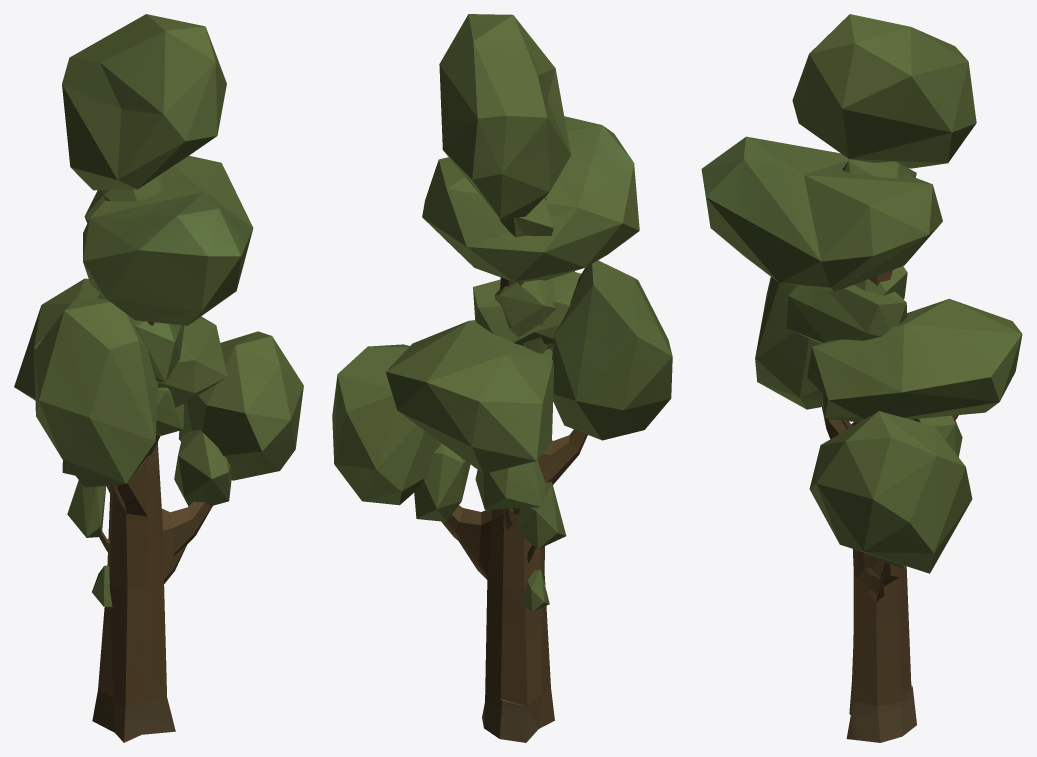
The model's file is tree4V1.fbx.
3 views of the same model, side by side, from view 1: azimuth 30°, elevation 25°; view 2: azimuth 150°, elevation 25°; view 3: azimuth 270°, elevation 25° (orthographic). The views are drawn at different scales.
Parts seen in each view (by area): view 1: Tree4, Tree4Stage3, Tree4Stage2, Tree4Stub, Tree4Stage1; view 2: Tree4, Tree4Stage3, Tree4Stage2, Tree4Stub, Tree4Stage1; view 3: Tree4, Tree4Stage3, Tree4Stub, Tree4Stage2.
Part boxes in pixels (box(x1,y1,x2,y2)): Tree4: box(14, 14, 303, 742); Tree4Stage3: box(62, 175, 231, 583); Tree4Stage2: box(67, 293, 183, 553); Tree4Stub: box(92, 690, 175, 742); Tree4Stage1: box(92, 565, 112, 606); Tree4: box(332, 14, 672, 728); Tree4Stage3: box(414, 196, 580, 579); Tree4Stage2: box(494, 279, 566, 562); Tree4Stub: box(482, 695, 538, 742); Tree4Stage1: box(522, 569, 549, 612); Tree4: box(701, 14, 1022, 706); Tree4Stage3: box(786, 159, 962, 601); Tree4Stub: box(846, 681, 916, 742); Tree4Stage2: box(821, 266, 907, 429).
Size of what is drawn, in the model's own units: 168 by 381 by 153.
